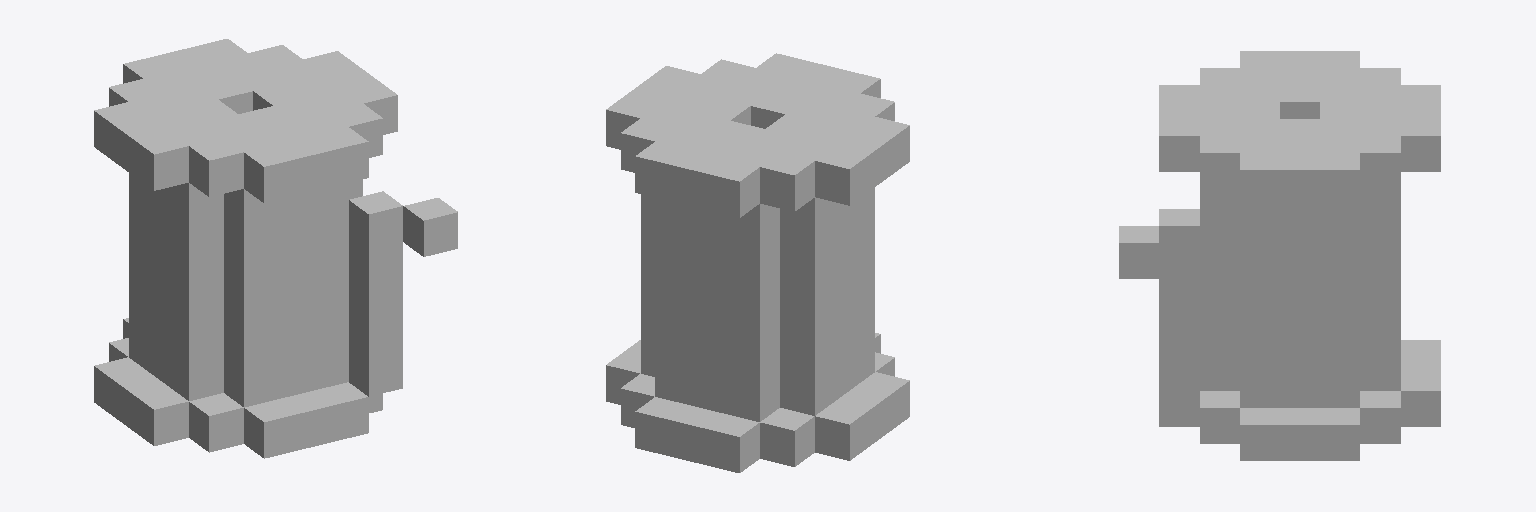
Rendered from nano cloth.obj.
3 renders of one model, left to right at view 1: azimuth 30°, elevation 25°; view 2: azimuth 150°, elevation 25°; view 3: azimuth 270°, elevation 25°, orthographic.
Parts seen in each view (by area): view 1: object 1; view 2: object 1; view 3: object 1.
Part boxes in pixels (left/top/right/bottom): object 1: left=94, top=39, right=457, bottom=458; object 1: left=606, top=53, right=909, bottom=472; object 1: left=1119, top=51, right=1440, bottom=460.
Size of the model in its own units: 0.7 by 0.8 by 0.8.